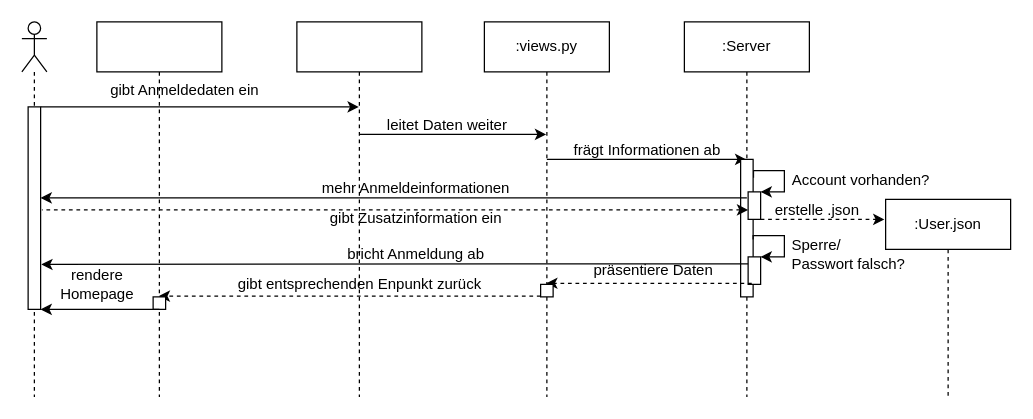
Some shapes in this 1033 by 419 pixel diagram are drawn without their labels. Each missing label, with the box of its shape:
:Horus Homepage: (96, 21, 222, 397)
:LogIn-Page: (296, 21, 422, 397)
